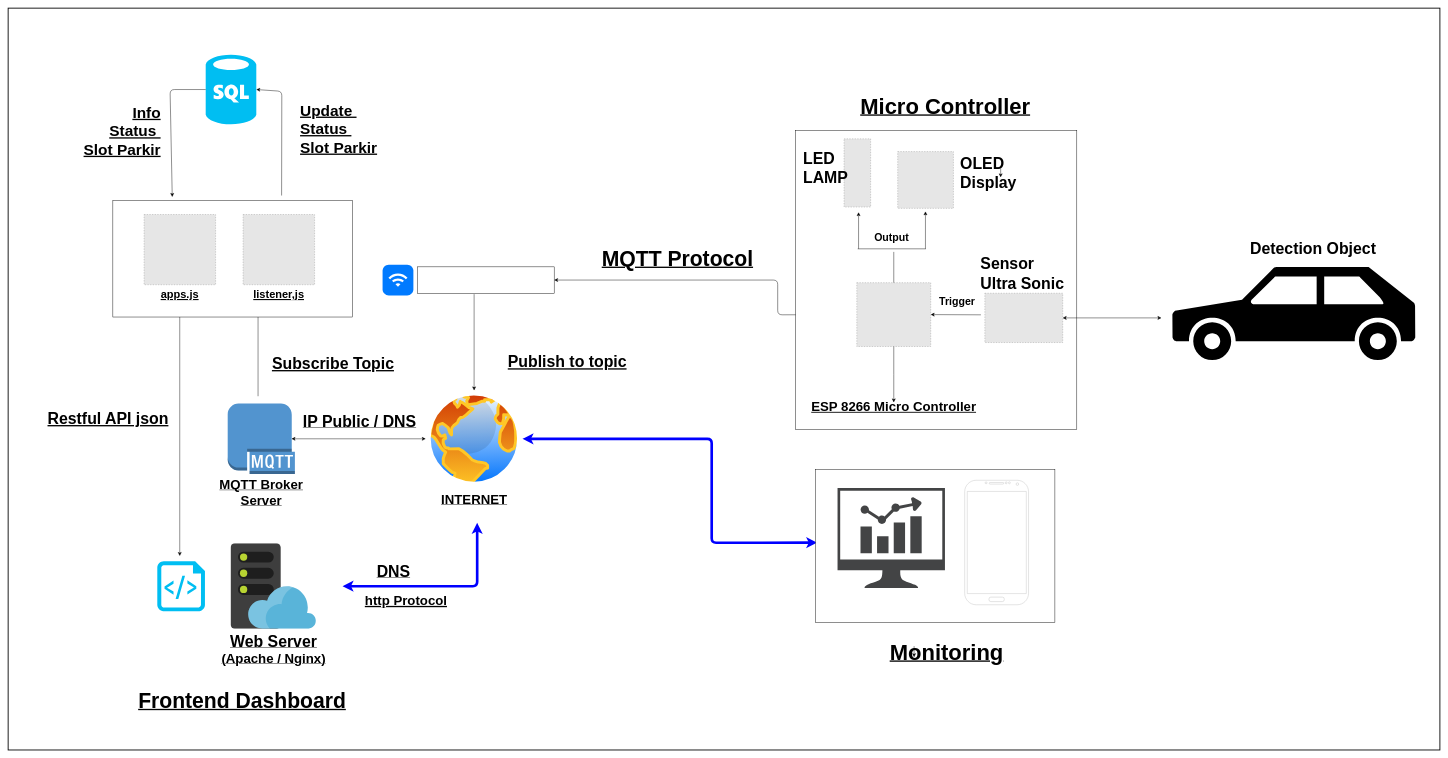
The diagram is 1448 pixels wide and 758 high, and some of its shapes have lost their labels. Grey dashed boxes stand in for pictures. The shapes that lost their labels are listed below. From the top down, each one's centre as x and y in pixels, then its label:
the point at 485,279: Wifi Conectivity
the point at 181,586: index.html
